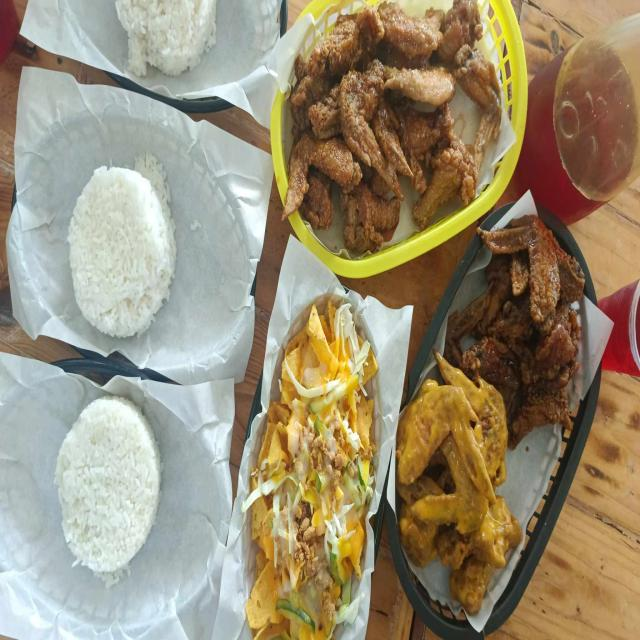Chicken -Chicken Inasal-: (60, 161, 188, 337), (56, 398, 164, 572), (104, 0, 224, 81)
